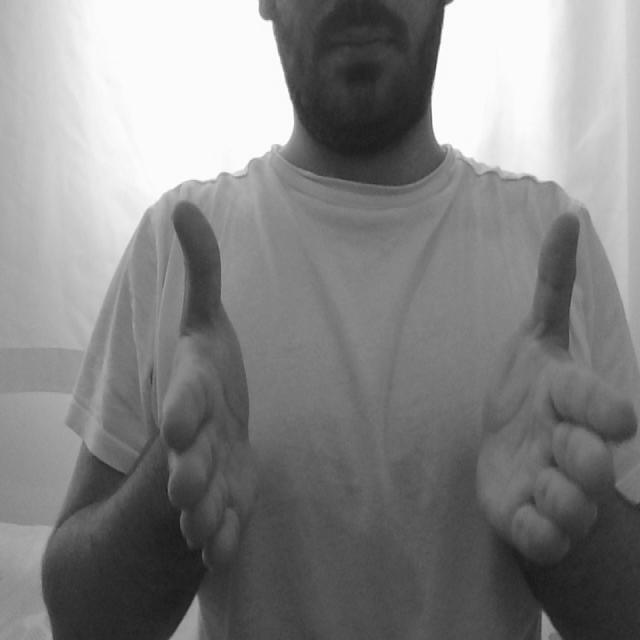Nasil: (155, 194, 640, 577)
